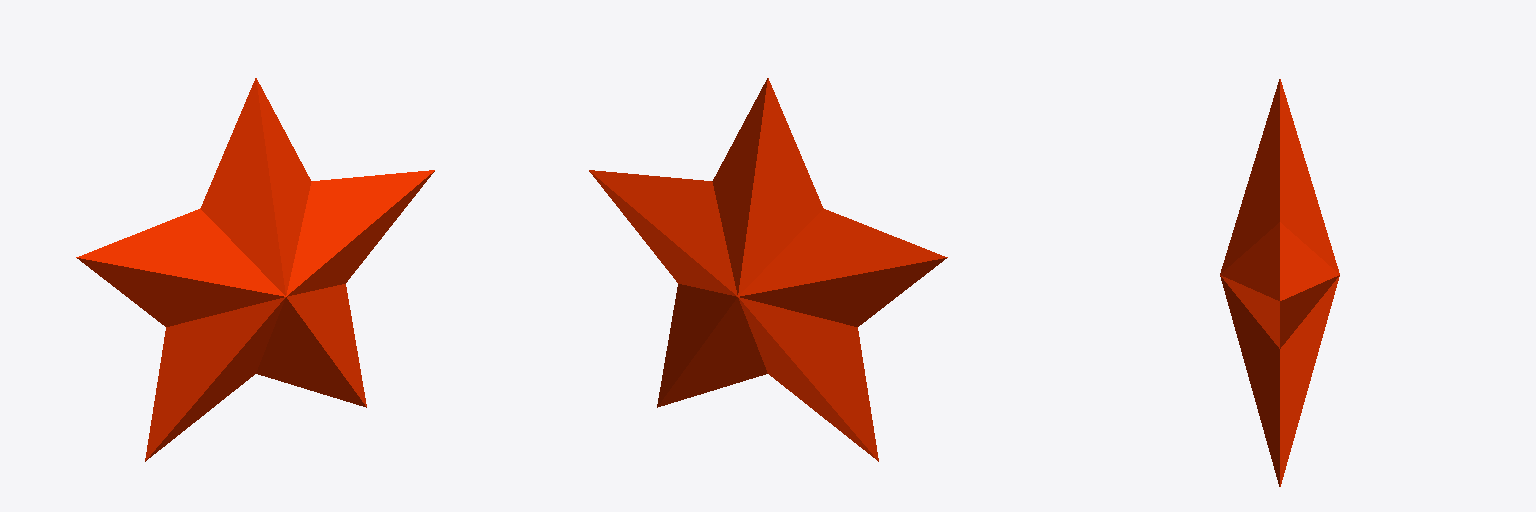
The model's file is Star_O.obj.
3 renders of one model, left to right at view 1: azimuth 30°, elevation 25°; view 2: azimuth 150°, elevation 25°; view 3: azimuth 270°, elevation 25°, orthographic.
Parts seen in each view (by area): view 1: Star_O; view 2: Star_O; view 3: Star_O.
Part boxes in pixels (left/top/right/bottom): Star_O: left=76, top=78, right=434, bottom=461; Star_O: left=589, top=78, right=947, bottom=461; Star_O: left=1220, top=79, right=1339, bottom=486.
Bounding box in the file's own units: 19.02 × 18.09 × 5.51.